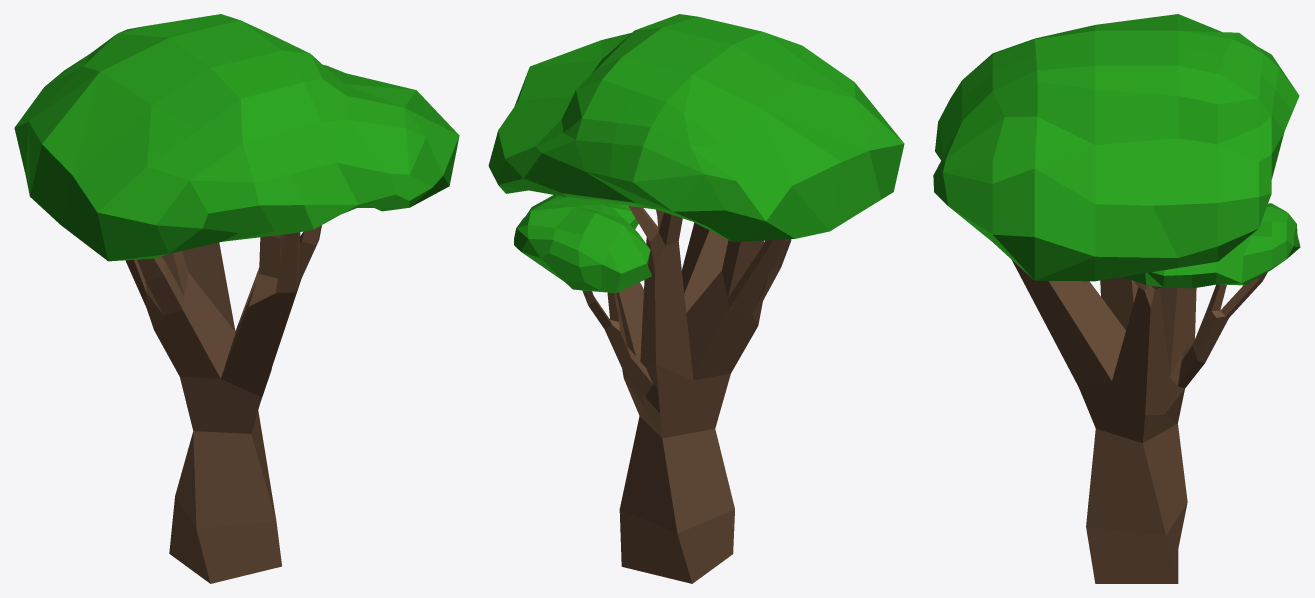
Rendered from Tree2.glb.
3 renders of one model, left to right at view 1: azimuth 30°, elevation 25°; view 2: azimuth 150°, elevation 25°; view 3: azimuth 270°, elevation 25°, orthographic.
Visible parts, largest first — view 1: Cube; view 2: Cube; view 3: Cube.
Part boxes in pixels (bbox=[...]): Cube: bbox=[14, 14, 459, 583]; Cube: bbox=[488, 14, 904, 583]; Cube: bbox=[933, 14, 1300, 583].
Bounding box in the file's own units: 10.38 × 13.77 × 8.84.
